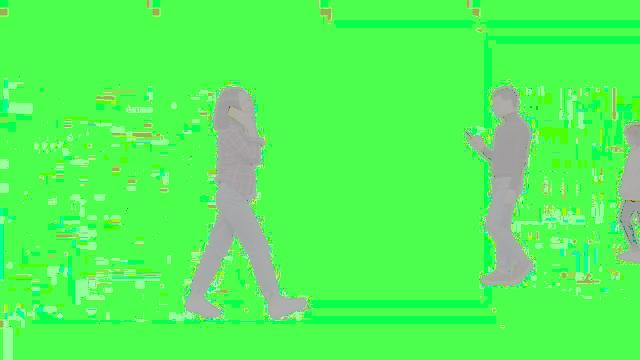berjalan: (178, 84, 308, 323), (462, 76, 532, 292)
